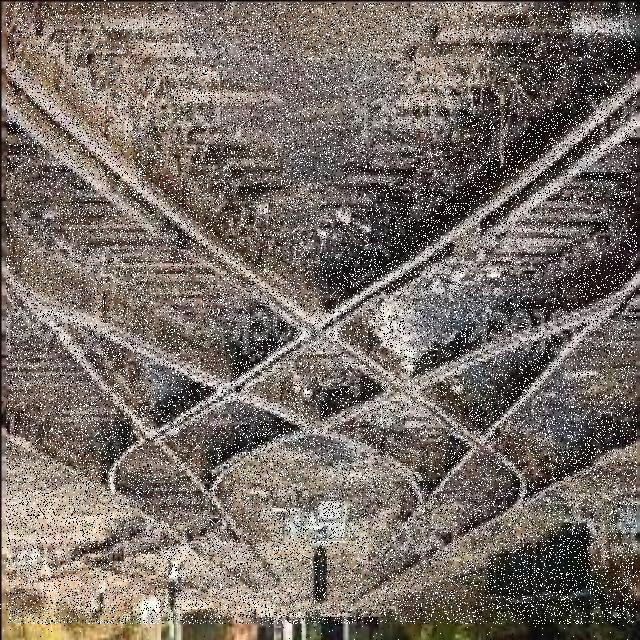rail: (8, 4, 638, 625)
